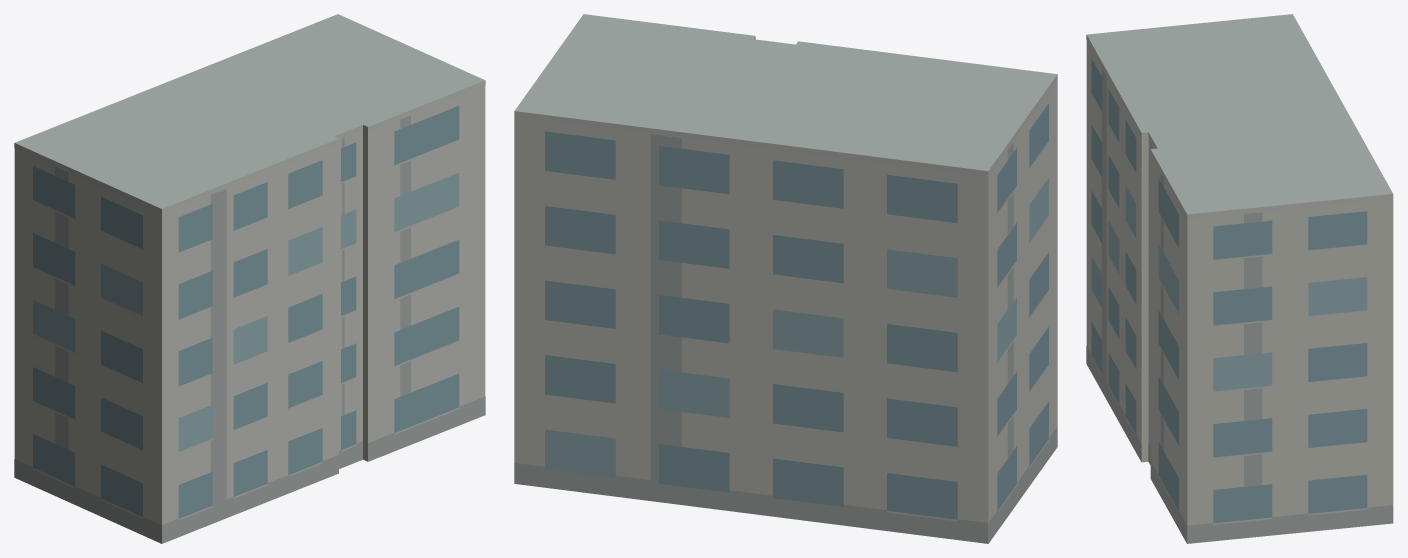
File: survey-upis-32798352.glb
The picture shows the model from 3 angles, left to right: view 1: azimuth 30°, elevation 25°; view 2: azimuth 150°, elevation 25°; view 3: azimuth 270°, elevation 25°; orthographic projection. The views are drawn at different scales.
Visible parts, largest first — view 1: survey-upis-32798352.tmp; view 2: survey-upis-32798352.tmp; view 3: survey-upis-32798352.tmp.
Part boxes in pixels (left/top/right/bottom): survey-upis-32798352.tmp: left=14, top=14, right=485, bottom=543; survey-upis-32798352.tmp: left=514, top=14, right=1057, bottom=543; survey-upis-32798352.tmp: left=1086, top=14, right=1393, bottom=543.
Bounding box in the file's own units: 19.9 × 15.25 × 12.88.
